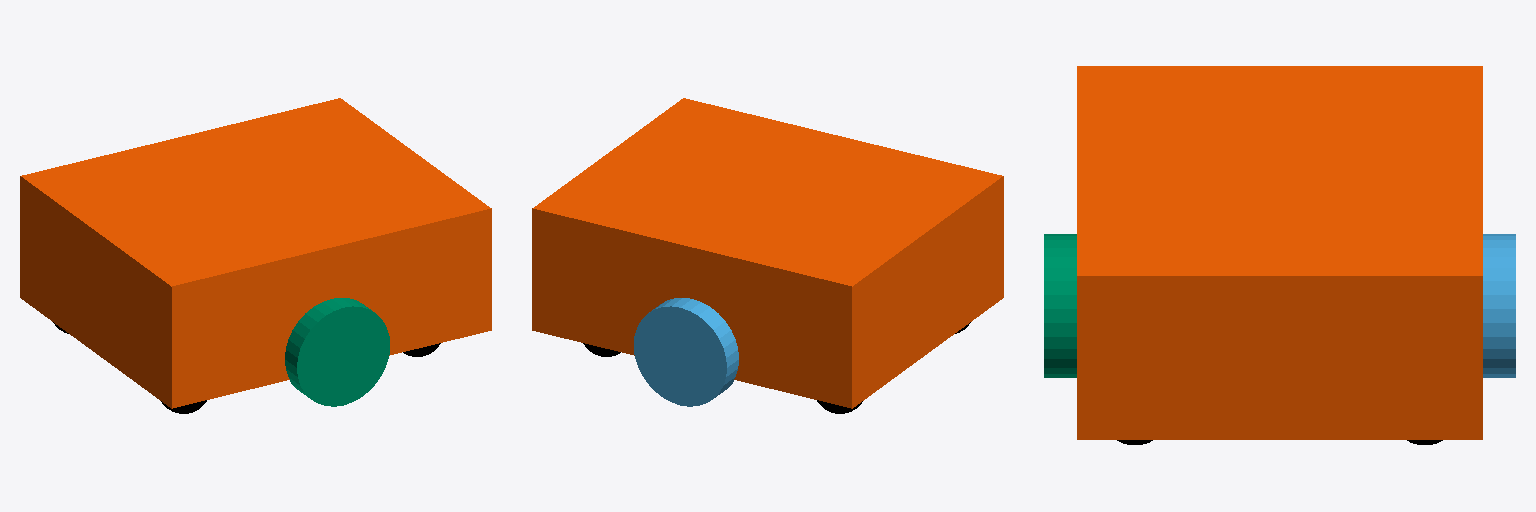
The robot description file, URDF, robot "B1-AMR":
<?xml version="1.0" ?>
<robot name="B1-AMR">

  <!-- footprint -->
  <link name="base_footprint"/>
  <!-- base_link_joint -->
  <joint name="base_joint" type="fixed">
    <parent link="base_footprint"/>
    <child link="base_link"/>
    <origin xyz="0.0 0.0 0.010" rpy="0 0 0"/>
    <axis xyz="0 0 0" />
  </joint>

  <!-- base_link -->
  <link name="base_link">
    <!-- 外观属性 -->
    <visual>
      <origin rpy="0 0 0" xyz="0 0 0"/>
      <geometry>
        <box size="0.685 0.560 0.25"/>
      </geometry>
      <material name="orange">
        <color rgba="1.0 0.423529411765 0.0392156862745 1.0"/>
      </material>
    </visual>
    <!-- 物理碰撞属性 -->
    <collision>
      <geometry>
        <box size="0.685 0.560 0.25"/>
      </geometry>
    </collision>
    <!-- 质量和惯性 -->
    <inertial>
      <mass value="15"/>
      <inertia ixx="0.18125" ixy="0.0" ixz="0.0" iyy="0.40625" iyz="0.0" izz="0.53125"/>
    </inertial>
  </link>

  <link name="laser_front_link">
    <inertial>
      <origin xyz="-0.00163226605178779 -3.81046922211525E-05 -0.0109858757086851" rpy="0 0 0" />
      <mass value="0.0270845630745659" />
      <inertia ixx="9.26761139629486E-06" ixy="-8.15186724546099E-09" ixz="1.11929715299346E-08" iyy="9.24891699462467E-06" iyz="7.68768412175614E-10" izz="1.54092066975936E-05" />
    </inertial>
  </link>

  <joint name="laser_front_joint" type="fixed">
    <origin xyz="0.174973 0.145982 0.180056" rpy="0 0 0.7854" />
    <parent link="base_link" />
    <child link="laser_front_link" />
    <axis xyz="0 0 0" />
  </joint>

  <link name="laser_rear_link">
    <inertial>
      <origin xyz="-0.00163226515919279 -3.81039738022448E-05 -0.0109858756959254" rpy="0 0 0" />
      <mass value="0.0270845630487793" />
      <inertia ixx="9.26761147077806E-06" ixy="-8.15116807715507E-09" ixz="1.11931999807769E-08" iyy="9.24891703100811E-06" iyz="7.6892758075562E-10" izz="1.5409206785005E-05" />
    </inertial>
  </link>

  <joint name="laser_rear_joint" type="fixed">
    <origin xyz="-0.174973 -0.145982 0.180056" rpy="0 0 -2.3562" />
    <parent link="base_link" />
    <child link="laser_rear_link" />
    <axis xyz="0 0 0" />
  </joint>
  
  <!-- RGB Camera Front -->
  <joint name="camera_front_joint" type="fixed">
    <origin xyz="0.302139 0.00758 0.140197" rpy="1.5717 0 -1.5717" /> 
    <parent link="base_link" />
    <child link="camera_front" />
    <axis xyz="0 0 0" />
  </joint>

  <link name="camera_front">
      <inertial>
      <origin xyz="0.00759 -2.41924E-05 -0.000284" rpy="0 0 0" />
      <mass value="0.0221" />
      <inertia ixx="0.000193" ixy="-7.5735E-06" ixz="-6.98E-08" iyy="0.000123" iyz="1.1782E-07" izz="2.7401E-05" />
      </inertial>
      <visual><origin xyz="0 0 0" rpy="0 0 0" /></visual>
      <collision><origin xyz="0 0 0" rpy="0 0 0" /></collision>
  </link> 

  <!-- Depth Camera Front -->
  <joint name="depth_front_joint" type="fixed">
    <origin xyz="0.0 -0.00758 0.0" rpy="0 0 0" />
    <parent link="camera_front" />
    <child link="depth_front" />
    <axis xyz="0 0 0" />
  </joint>
  <link name="depth_front">
      <inertial>
      <origin xyz="-0.0121749689613144 -0.00166764283741135 1.11022302462516E-16" rpy="0 0 0" />
      <mass value="0.049943642470157" />
      <inertia ixx="3.03099978294819E-05" ixy="-6.18417155628911E-07" ixz="-5.0821976835258E-21" iyy="5.03370369341809E-06" iyz="-3.59872889703051E-21" izz="3.0368975272592E-05" />
      </inertial>
      <visual><origin xyz="0 0 0" rpy="0 0 0" /></visual>
      <collision><origin xyz="0 0 0" rpy="0 0 0" /></collision>
  </link>

  <!-- RGB Camera Rear -->
  <joint name="camera_rear_joint" type="fixed">
    <origin xyz="-0.302139 -0.00758 0.140197" rpy="1.5717 0 -1.5717" /> 
    <parent link="base_link" />
    <child link="camera_rear" />
    <axis xyz="0 0 0" />
  </joint>

  <link name="camera_rear">
      <inertial>
      <origin xyz="0.00759 -2.41924E-05 -0.000284" rpy="0 0 0" />
      <mass value="0.0221" />
      <inertia ixx="0.000193" ixy="-7.5735E-06" ixz="-6.98E-08" iyy="0.000123" iyz="1.1782E-07" izz="2.7401E-05" />
      </inertial>
      <visual><origin xyz="0 0 0" rpy="0 0 0" /></visual>
      <collision><origin xyz="0 0 0" rpy="0 0 0" /></collision>
  </link> 

  <!-- Depth Camera Rear -->
  <joint name="depth_rear_joint" type="fixed">
    <origin xyz="0.0 -0.00758 0.0" rpy="0 0 0" />
    <parent link="camera_rear" />
    <child link="depth_rear" />
    <axis xyz="0 0 0" />
  </joint>
  <link name="depth_rear">
      <inertial>
      <origin xyz="-0.0121749689613144 -0.00166764283741135 1.11022302462516E-16" rpy="0 0 0" />
      <mass value="0.049943642470157" />
      <inertia ixx="3.03099978294819E-05" ixy="-6.18417155628911E-07" ixz="-5.0821976835258E-21" iyy="5.03370369341809E-06" iyz="-3.59872889703051E-21" izz="3.0368975272592E-05" />
      </inertial>
      <visual><origin xyz="0 0 0" rpy="0 0 0" /></visual>
      <collision><origin xyz="0 0 0" rpy="0 0 0" /></collision>
  </link>

  <!-- imu_chassis_joint -->
  <joint name="imu_chassis_joint" type="fixed">
    <origin rpy="0 0 0" xyz="0.273 0 0.0"/>
    <parent link="base_link"/>
    <child link="imu_chassis_link"/>
    <axis xyz="0 0 0"/>
  </joint>
 
  <!-- imu_link -->
  <link name="imu_chassis_link">
    <visual>
      <geometry><cylinder length="0.1" radius="0.05"/></geometry>
      <material name="grey"><color rgba="0.2 0.2 0.2 1.0"/></material>
    </visual>
    <inertial>
      <mass value="0.01"/>
      <inertia ixx="0.00001" ixy="0.0" ixz="0.0" iyy="0.00001" iyz="0.0" izz="0.00001"/>
    </inertial>
  </link>

  <!-- Left and Right Wheel links for diff drive plugin -->
  <link name="left_wheel_link">
    <visual>
      <geometry><cylinder length="0.05" radius="0.10"/></geometry>
    </visual>
    <collision>
      <geometry><cylinder length="0.05" radius="0.10"/></geometry>
    </collision>
    <inertial>
      <mass value="1.5"/>
      <inertia ixx="0.01" ixy="0.0" ixz="0.0" iyy="0.01" iyz="0.0" izz="0.01"/>
    </inertial>
  </link>
  <joint name="left_wheel_joint" type="continuous">
    <parent link="base_link"/>
    <child link="left_wheel_link"/>
    <origin xyz="0 0.3 -0.08" rpy="-1.5707 0 0"/>
    <axis xyz="0 0 1"/>
  </joint>

  <link name="right_wheel_link">
    <visual>
      <geometry><cylinder length="0.05" radius="0.10"/></geometry>
    </visual>
    <collision>
      <geometry><cylinder length="0.05" radius="0.10"/></geometry>
    </collision>
    <inertial>
      <mass value="1.5"/>
      <inertia ixx="0.01" ixy="0.0" ixz="0.0" iyy="0.01" iyz="0.0" izz="0.01"/>
    </inertial>
  </link>
  <joint name="right_wheel_joint" type="continuous">
    <parent link="base_link"/>
    <child link="right_wheel_link"/>
    <origin xyz="0 -0.3 -0.08" rpy="-1.5707 0 0"/>
    <axis xyz="0 0 1"/>
  </joint>

  <!-- ==================== FRONT LEFT CASTER ==================== -->
  <link name="caster_fl_swivel_link">
    <inertial>
      <mass value="0.05"/>
      <origin xyz="0 0 0"/>
      <inertia ixx="0.00005" ixy="0.0" ixz="0.0" iyy="0.00005" iyz="0.0" izz="0.00005"/>
    </inertial>
    <visual>
      <origin xyz="0 0 -0.015" rpy="0 0 0"/>
      <geometry>
        <cylinder radius="0.015" length="0.03"/>
      </geometry>
      <material name="grey"><color rgba="0.5 0.5 0.5 1"/></material>
    </visual>
  </link>
  <joint name="caster_fl_swivel_joint" type="continuous">
    <parent link="base_link"/>
    <child link="caster_fl_swivel_link"/>
    <origin xyz="0.25 0.20 -0.10" rpy="0 0 0"/>
    <axis xyz="0 0 1"/>
    <dynamics damping="0.03" friction="0.003"/>
  </joint>

  <link name="caster_fl_wheel_link">
    <inertial>
      <mass value="0.1"/>
      <origin xyz="0 0 0"/>
      <inertia ixx="0.0001" ixy="0.0" ixz="0.0" iyy="0.0001" iyz="0.0" izz="0.0001"/>
    </inertial>
    <visual>
      <geometry><sphere radius="0.05"/></geometry>
      <material name="black"><color rgba="0 0 0 1"/></material>
    </visual>
    <collision>
      <geometry><sphere radius="0.05"/></geometry>
    </collision>
  </link>
  <joint name="caster_fl_wheel_joint" type="continuous">
    <parent link="caster_fl_swivel_link"/>
    <child link="caster_fl_wheel_link"/>
    <origin xyz="-0.02 0 -0.03" rpy="0 0 0"/>
    <axis xyz="0 1 0"/>
    <dynamics damping="0.005" friction="0.0005"/>
  </joint>

  <!-- ==================== FRONT RIGHT CASTER ==================== -->
  <link name="caster_fr_swivel_link">
    <inertial>
      <mass value="0.05"/>
      <origin xyz="0 0 0"/>
      <inertia ixx="0.00005" ixy="0.0" ixz="0.0" iyy="0.00005" iyz="0.0" izz="0.00005"/>
    </inertial>
    <visual>
      <origin xyz="0 0 -0.015" rpy="0 0 0"/>
      <geometry>
        <cylinder radius="0.015" length="0.03"/>
      </geometry>
      <material name="grey"/>
    </visual>
  </link>
  <joint name="caster_fr_swivel_joint" type="continuous">
    <parent link="base_link"/>
    <child link="caster_fr_swivel_link"/>
    <origin xyz="0.25 -0.20 -0.10" rpy="0 0 0"/>
    <axis xyz="0 0 1"/>
    <dynamics damping="0.03" friction="0.003"/>
  </joint>

  <link name="caster_fr_wheel_link">
    <inertial>
      <mass value="0.1"/>
      <origin xyz="0 0 0"/>
      <inertia ixx="0.0001" ixy="0.0" ixz="0.0" iyy="0.0001" iyz="0.0" izz="0.0001"/>
    </inertial>
    <visual>
      <geometry><sphere radius="0.05"/></geometry>
      <material name="black"/>
    </visual>
    <collision>
      <geometry><sphere radius="0.05"/></geometry>
    </collision>
  </link>
  <joint name="caster_fr_wheel_joint" type="continuous">
    <parent link="caster_fr_swivel_link"/>
    <child link="caster_fr_wheel_link"/>
    <origin xyz="-0.02 0 -0.03" rpy="0 0 0"/>
    <axis xyz="0 1 0"/>
    <dynamics damping="0.005" friction="0.0005"/>
  </joint>

  <!-- ==================== REAR LEFT CASTER ==================== -->
  <link name="caster_rl_swivel_link">
    <inertial>
      <mass value="0.05"/>
      <origin xyz="0 0 0"/>
      <inertia ixx="0.00005" ixy="0.0" ixz="0.0" iyy="0.00005" iyz="0.0" izz="0.00005"/>
    </inertial>
    <visual>
      <origin xyz="0 0 -0.015" rpy="0 0 0"/>
      <geometry>
        <cylinder radius="0.015" length="0.03"/>
      </geometry>
      <material name="grey"/>
    </visual>
  </link>
  <joint name="caster_rl_swivel_joint" type="continuous">
    <parent link="base_link"/>
    <child link="caster_rl_swivel_link"/>
    <origin xyz="-0.25 0.20 -0.10" rpy="0 0 0"/>
    <axis xyz="0 0 1"/>
    <dynamics damping="0.03" friction="0.003"/>
  </joint>

  <link name="caster_rl_wheel_link">
    <inertial>
      <mass value="0.1"/>
      <origin xyz="0 0 0"/>
      <inertia ixx="0.0001" ixy="0.0" ixz="0.0" iyy="0.0001" iyz="0.0" izz="0.0001"/>
    </inertial>
    <visual>
      <geometry><sphere radius="0.05"/></geometry>
      <material name="black"/>
    </visual>
    <collision>
      <geometry><sphere radius="0.05"/></geometry>
    </collision>
  </link>
  <joint name="caster_rl_wheel_joint" type="continuous">
    <parent link="caster_rl_swivel_link"/>
    <child link="caster_rl_wheel_link"/>
    <origin xyz="-0.02 0 -0.03" rpy="0 0 0"/>
    <axis xyz="0 1 0"/>
    <dynamics damping="0.005" friction="0.0005"/>
  </joint>

  <!-- ==================== REAR RIGHT CASTER ==================== -->
  <link name="caster_rr_swivel_link">
    <inertial>
      <mass value="0.05"/>
      <origin xyz="0 0 0"/>
      <inertia ixx="0.00005" ixy="0.0" ixz="0.0" iyy="0.00005" iyz="0.0" izz="0.00005"/>
    </inertial>
    <visual>
      <origin xyz="0 0 -0.015" rpy="0 0 0"/>
      <geometry>
        <cylinder radius="0.015" length="0.03"/>
      </geometry>
      <material name="grey"/>
    </visual>
  </link>
  <joint name="caster_rr_swivel_joint" type="continuous">
    <parent link="base_link"/>
    <child link="caster_rr_swivel_link"/>
    <origin xyz="-0.25 -0.20 -0.10" rpy="0 0 0"/>
    <axis xyz="0 0 1"/>
    <dynamics damping="0.03" friction="0.003"/>
  </joint>

  <link name="caster_rr_wheel_link">
    <inertial>
      <mass value="0.1"/>
      <origin xyz="0 0 0"/>
      <inertia ixx="0.0001" ixy="0.0" ixz="0.0" iyy="0.0001" iyz="0.0" izz="0.0001"/>
    </inertial>
    <visual>
      <geometry><sphere radius="0.05"/></geometry>
      <material name="black"/>
    </visual>
    <collision>
      <geometry><sphere radius="0.05"/></geometry>
    </collision>
  </link>
  <joint name="caster_rr_wheel_joint" type="continuous">
    <parent link="caster_rr_swivel_link"/>
    <child link="caster_rr_wheel_link"/>
    <origin xyz="-0.02 0 -0.03" rpy="0 0 0"/>
    <axis xyz="0 1 0"/>
    <dynamics damping="0.005" friction="0.0005"/>
  </joint>

  <!-- Gazebo specific configurations -->
  <gazebo reference="base_link">
    <material>Gazebo/Orange</material>
  </gazebo>

  <gazebo reference="left_wheel_link">
    <mu1>2.0</mu1>
    <mu2>2.0</mu2>
    <material>Gazebo/DarkGrey</material>
  </gazebo>

  <gazebo reference="right_wheel_link">
    <mu1>2.0</mu1>
    <mu2>2.0</mu2>
    <material>Gazebo/DarkGrey</material>
  </gazebo>

  <!-- Gazebo specific configurations for 4 Casters -->
  <gazebo reference="caster_fl_wheel_link">
    <mu1>0.1</mu1>
    <mu2>0.1</mu2>
    <kp>1000000.0</kp>
    <kd>100.0</kd>
    <material>Gazebo/Grey</material>
  </gazebo>

  <gazebo reference="caster_fr_wheel_link">
    <mu1>0.1</mu1>
    <mu2>0.1</mu2>
    <kp>1000000.0</kp>
    <kd>100.0</kd>
    <material>Gazebo/Grey</material>
  </gazebo>

  <gazebo reference="caster_rl_wheel_link">
    <mu1>0.1</mu1>
    <mu2>0.1</mu2>
    <kp>1000000.0</kp>
    <kd>100.0</kd>
    <material>Gazebo/Grey</material>
  </gazebo>

  <gazebo reference="caster_rr_wheel_link">
    <mu1>0.1</mu1>
    <mu2>0.1</mu2>
    <kp>1000000.0</kp>
    <kd>100.0</kd>
    <material>Gazebo/Grey</material>
  </gazebo>

  <gazebo reference="laser_front_link">
    <sensor name="laser_front" type="ray">
      <always_on>true</always_on>
      <visualize>true</visualize>
      <update_rate>10</update_rate>
      <ray>
        <scan>
          <horizontal>
            <samples>360</samples>
            <resolution>1.000000</resolution>
            <min_angle>-3.141592</min_angle>
            <max_angle>3.141592</max_angle>
          </horizontal>
        </scan>
        <range>
          <min>0.120000</min>
          <max>20.0</max>
          <resolution>0.015000</resolution>
        </range>
        <noise>
          <type>gaussian</type>
          <mean>0.0</mean>
          <stddev>0.01</stddev>
        </noise>
      </ray>
      <plugin name="laser_front_sensor" filename="libgazebo_ros_ray_sensor.so">
        <ros>
          <remapping>~/out:=scan_front</remapping>
        </ros>
        <output_type>sensor_msgs/LaserScan</output_type>
        <frame_name>laser_front_link</frame_name>
      </plugin>
    </sensor>
  </gazebo>

  <gazebo reference="laser_rear_link">
    <sensor name="laser_rear" type="ray">
      <always_on>true</always_on>
      <visualize>true</visualize>
      <update_rate>10</update_rate>
      <ray>
        <scan>
          <horizontal>
            <samples>360</samples>
            <resolution>1.000000</resolution>
            <min_angle>-3.141592</min_angle>
            <max_angle>3.141592</max_angle>
          </horizontal>
        </scan>
        <range>
          <min>0.120000</min>
          <max>20.0</max>
          <resolution>0.015000</resolution>
        </range>
        <noise>
          <type>gaussian</type>
          <mean>0.0</mean>
          <stddev>0.01</stddev>
        </noise>
      </ray>
      <plugin name="laser_rear_sensor" filename="libgazebo_ros_ray_sensor.so">
        <ros>
          <remapping>~/out:=scan_rear</remapping>
        </ros>
        <output_type>sensor_msgs/LaserScan</output_type>
        <frame_name>laser_rear_link</frame_name>
      </plugin>
    </sensor>
  </gazebo>

  <gazebo reference="imu_chassis_link">
    <sensor name="tb3_imu" type="imu">
      <always_on>true</always_on>
      <update_rate>200</update_rate>
      <imu>
        <angular_velocity>
          <x><noise type="gaussian"><mean>0.0</mean><stddev>2e-4</stddev></noise></x>
          <y><noise type="gaussian"><mean>0.0</mean><stddev>2e-4</stddev></noise></y>
          <z><noise type="gaussian"><mean>0.0</mean><stddev>2e-4</stddev></noise></z>
        </angular_velocity>
        <linear_acceleration>
          <x><noise type="gaussian"><mean>0.0</mean><stddev>1.7e-2</stddev></noise></x>
          <y><noise type="gaussian"><mean>0.0</mean><stddev>1.7e-2</stddev></noise></y>
          <z><noise type="gaussian"><mean>0.0</mean><stddev>1.7e-2</stddev></noise></z>
        </linear_acceleration>
      </imu>
      <plugin name="turtlebot3_imu" filename="libgazebo_ros_imu_sensor.so">
        <initial_orientation_as_reference>false</initial_orientation_as_reference>
        <ros>
          <remapping>~/out:=imu</remapping>
        </ros>
      </plugin>
    </sensor>
  </gazebo>

  <gazebo>
    <plugin name="diff_drive" filename="libgazebo_ros_diff_drive.so">
      <ros>
        <remapping>cmd_vel:=cmd_vel</remapping>
        <remapping>odom:=odom</remapping>
      </ros>
      <update_rate>30</update_rate>
      <left_joint>left_wheel_joint</left_joint>
      <right_joint>right_wheel_joint</right_joint>
      <wheel_separation>0.6</wheel_separation>
      <wheel_diameter>0.20</wheel_diameter>
      <max_wheel_torque>200</max_wheel_torque>
      <max_wheel_acceleration>2.0</max_wheel_acceleration>
      <publish_odom>true</publish_odom>
      <publish_odom_tf>true</publish_odom_tf>
      <publish_wheel_tf>false</publish_wheel_tf>
      <odometry_frame>odom</odometry_frame>
      <odometry_source>1</odometry_source>
      <robot_base_frame>base_link</robot_base_frame>
    </plugin>
  </gazebo>

</robot>

--- Render facts (derived) ---
Views: 3 orthographic renders of the robot side by side, from view 1: azimuth 30°, elevation 25°; view 2: azimuth 150°, elevation 25°; view 3: azimuth 270°, elevation 25°.
Model B1-AMR with 19 links and 18 joints (10 continuous, 8 fixed), rooted at base_footprint, posed all joints at 0.
Links seen in each view (by area): view 1: base_link, right_wheel_link; view 2: base_link, left_wheel_link; view 3: base_link, left_wheel_link, right_wheel_link.
Link boxes in pixels (box(x1,y1,x2,y2)): base_link: box(20, 98, 491, 408); right_wheel_link: box(285, 298, 389, 406); base_link: box(532, 98, 1003, 408); left_wheel_link: box(634, 298, 738, 406); base_link: box(1077, 66, 1482, 439); left_wheel_link: box(1483, 234, 1515, 377); right_wheel_link: box(1044, 234, 1076, 377).
Size in the robot's own frame: 0.685 by 0.65 by 0.305 metres.
Geometry: primitives only (box / cylinder / sphere), no mesh files.
